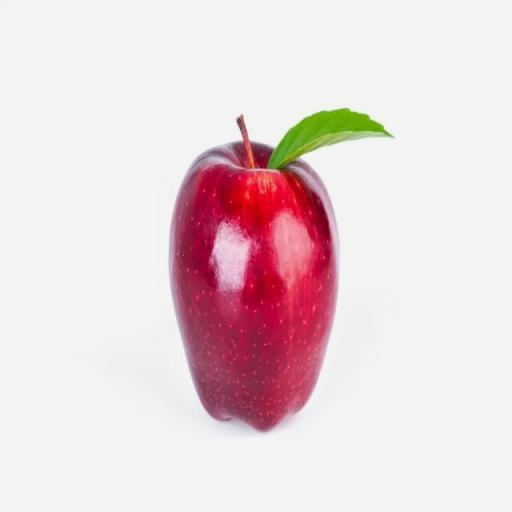fruit: (169, 124, 337, 430)
